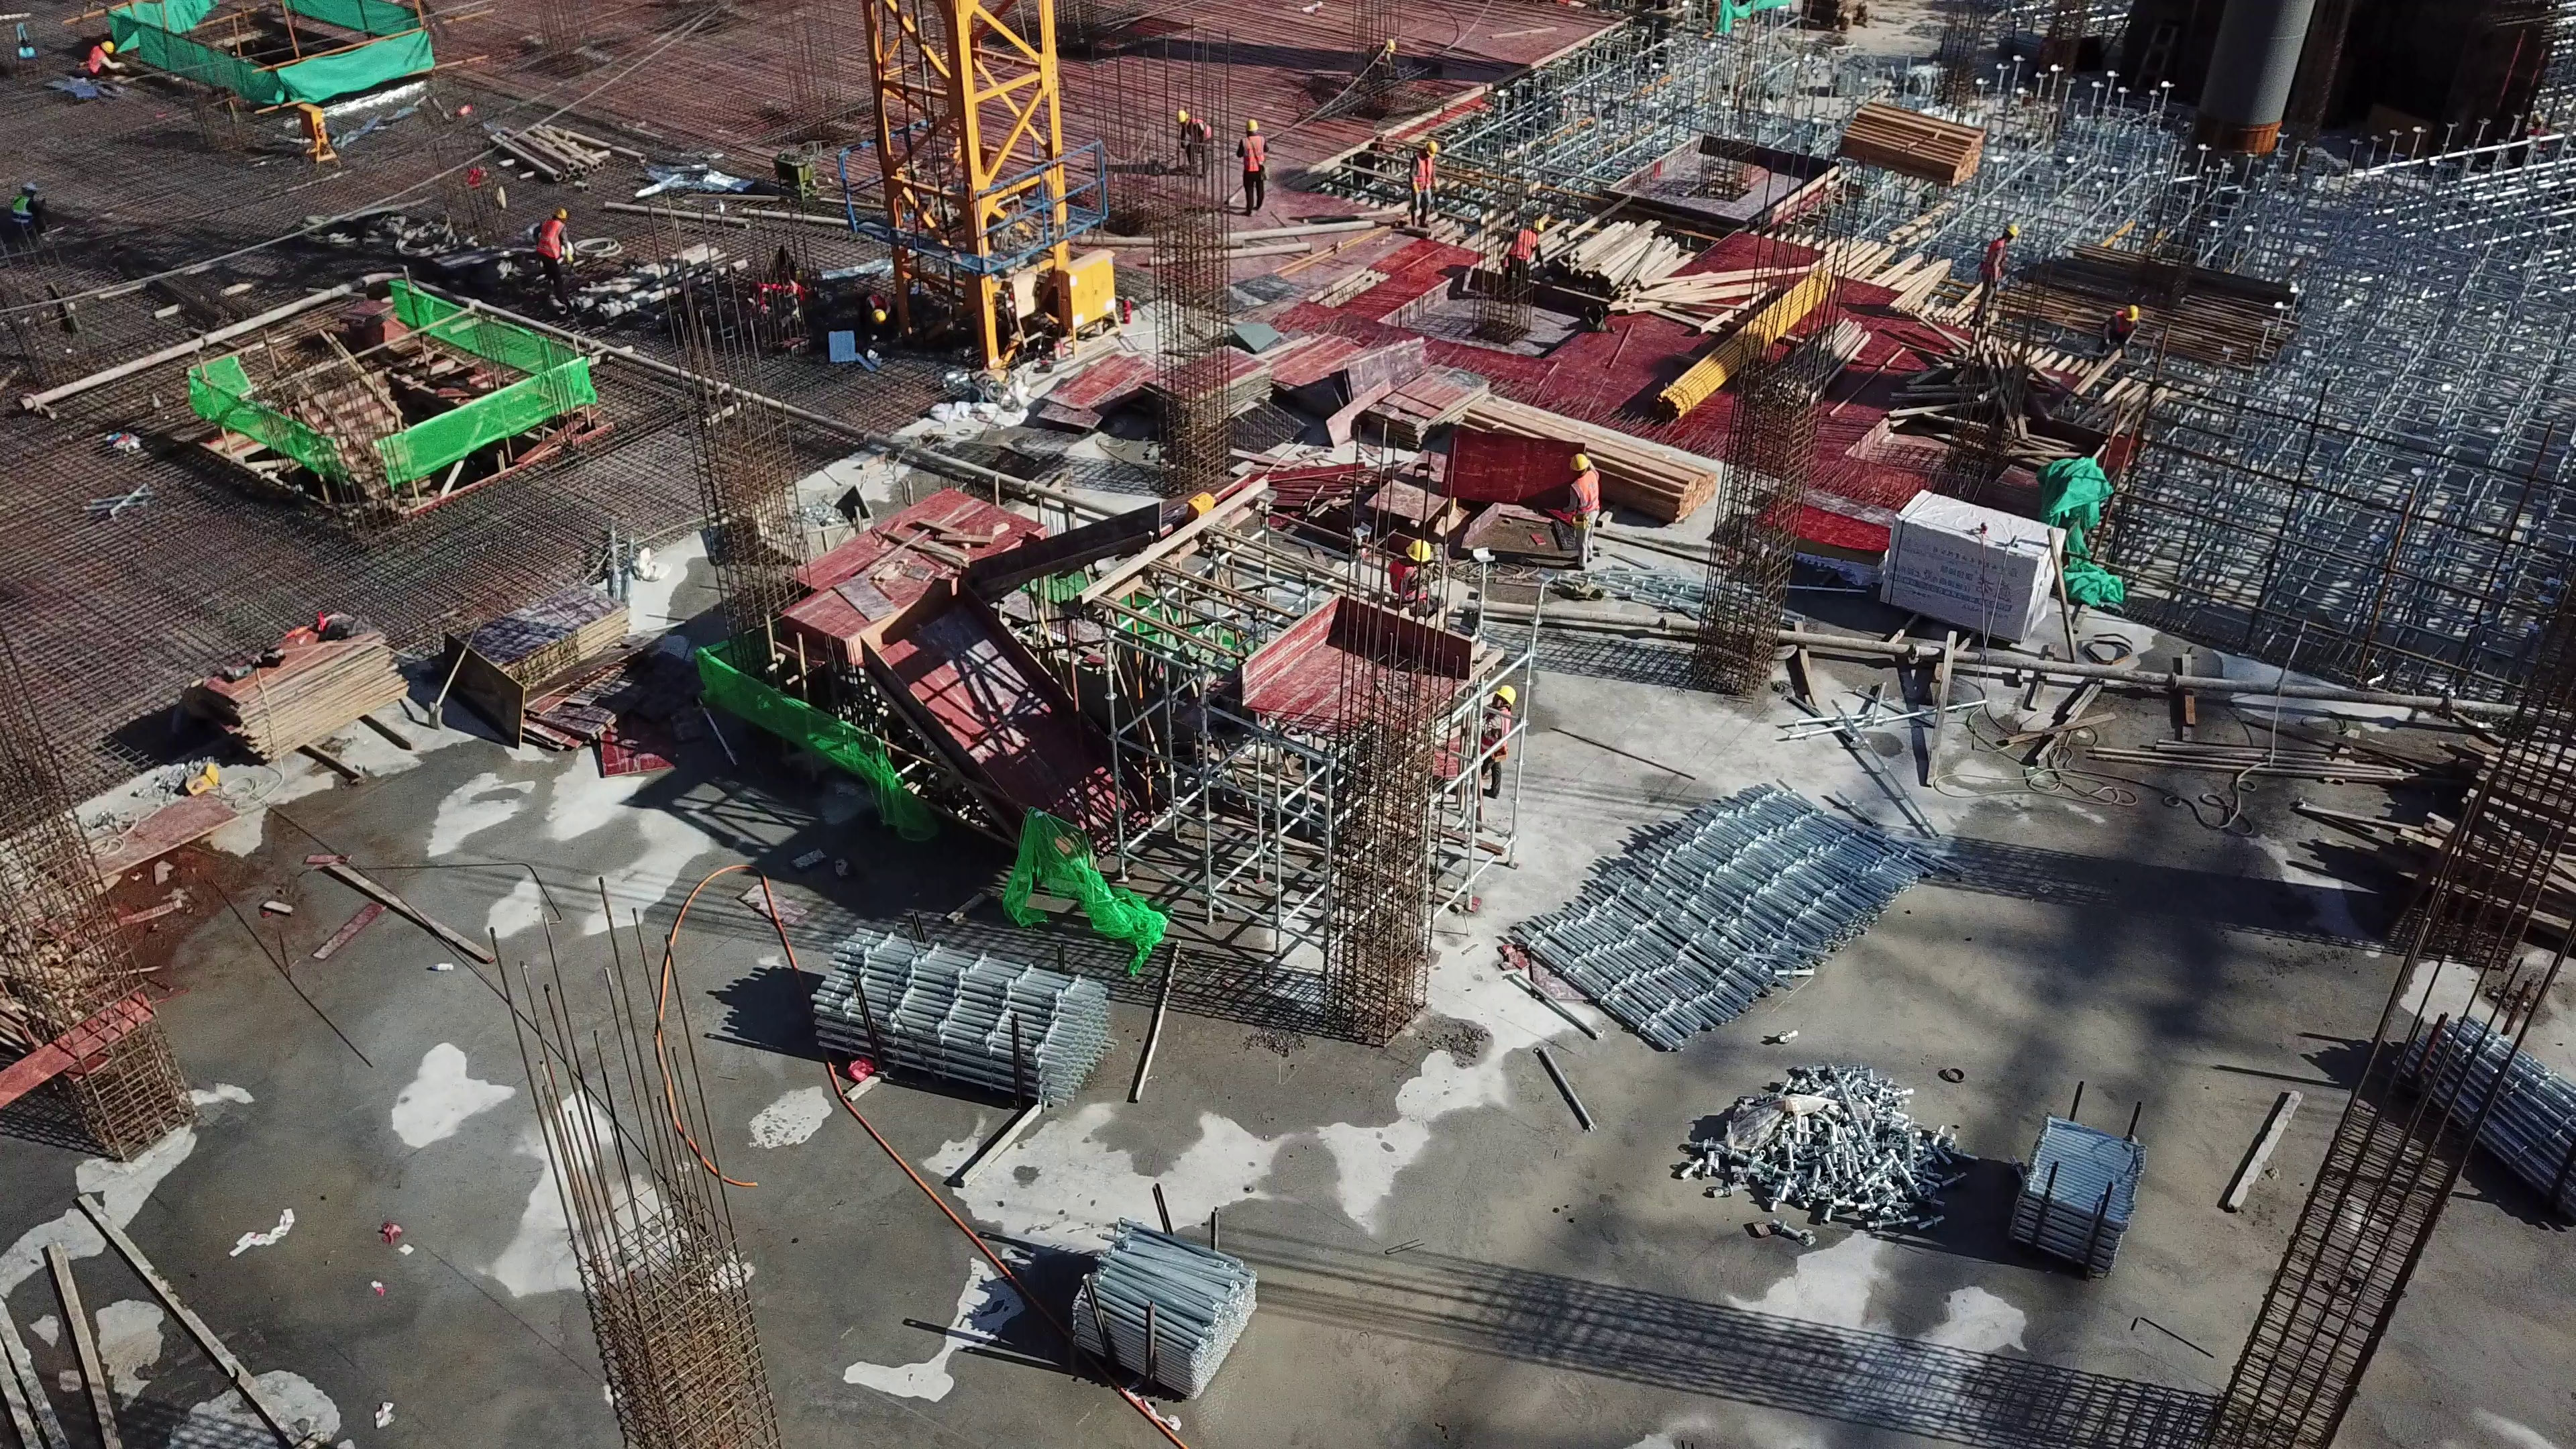board: (193, 616, 394, 777), (449, 590, 645, 730)
person: (1563, 450, 1613, 576), (1397, 132, 1444, 243), (1228, 106, 1269, 229), (1385, 529, 1441, 619), (528, 208, 580, 299), (1974, 219, 2018, 327), (1481, 672, 1517, 794), (2102, 305, 2138, 363)
scaffold: (1508, 780, 1939, 1048), (804, 920, 1102, 1104), (1067, 1214, 1260, 1413), (2409, 1010, 2576, 1222), (2021, 1104, 2149, 1276)
wood: (1461, 377, 1718, 537), (1531, 225, 1776, 319)
